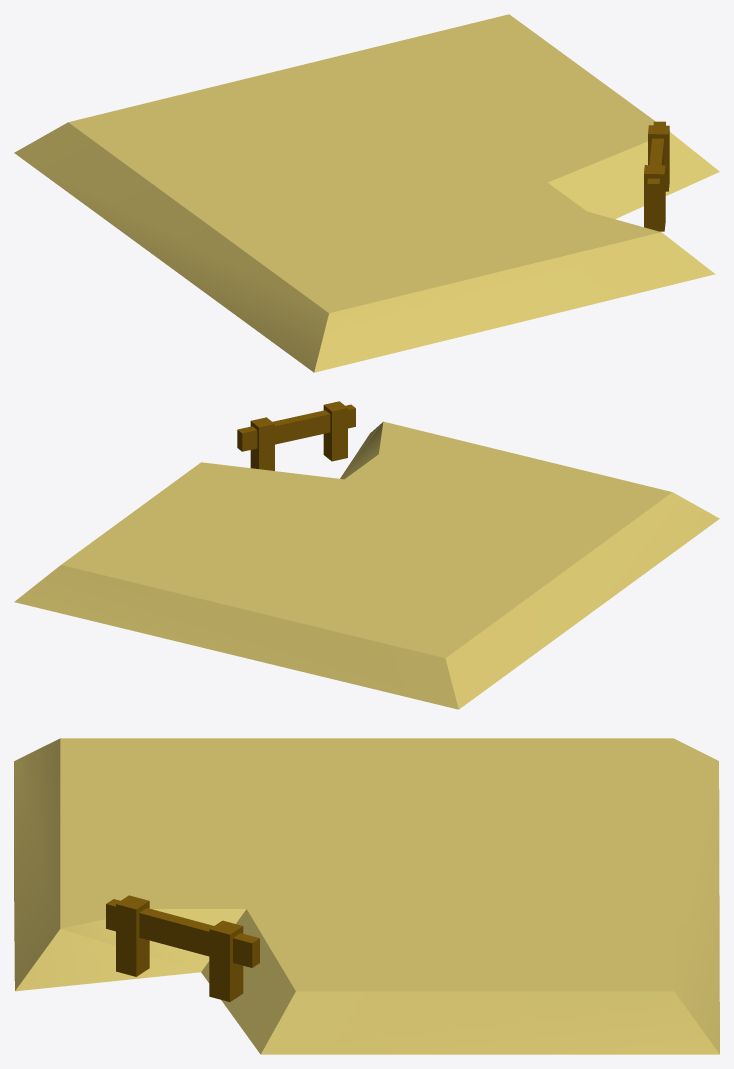
File: InnerCorner.fbx
3 renders of one model, top to bottom at view 1: azimuth 30°, elevation 25°; view 2: azimuth 150°, elevation 25°; view 3: azimuth 270°, elevation 25°, orthographic. The views are drawn at different scales.
Visible parts, largest first — view 1: Normal - Inner Corner; view 2: Normal - Inner Corner; view 3: Normal - Inner Corner.
Part boxes in pixels (bbox=[...]): Normal - Inner Corner: bbox=[14, 14, 719, 372]; Normal - Inner Corner: bbox=[14, 401, 719, 709]; Normal - Inner Corner: bbox=[14, 738, 719, 1054].
Bounding box in the file's own units: 147 × 19.58 × 150.
